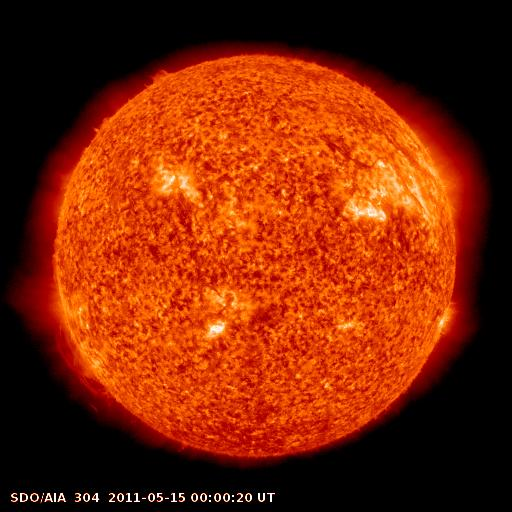prominence: (47, 316, 121, 417), (138, 61, 180, 91)
